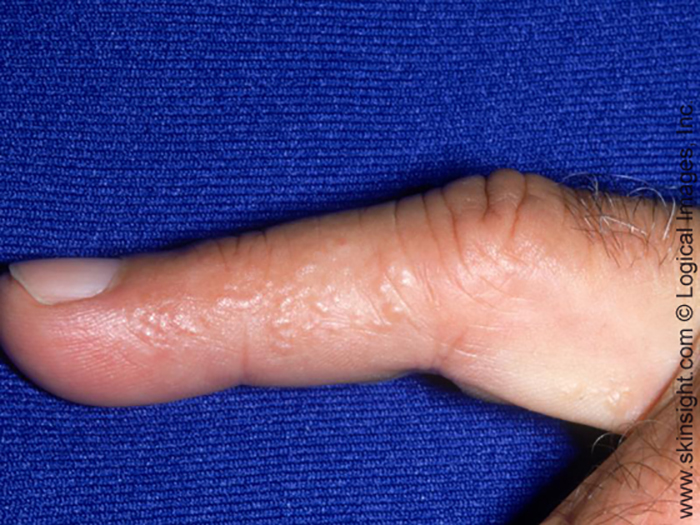Diseased: (61, 216, 507, 403)
